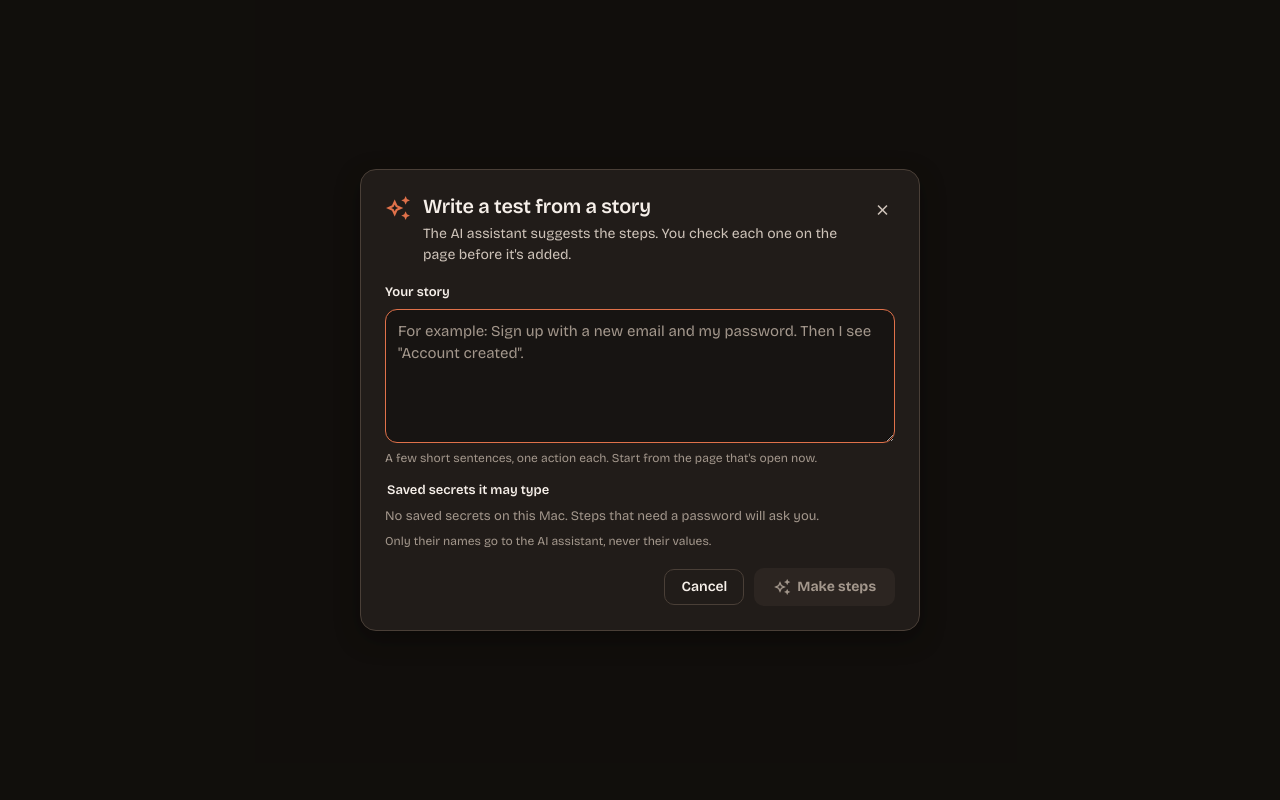
Scenario: the story dialog › says why when there is no plan
Check: the text "No saved secrets on this Mac" is shown, box [385,508,819,524]
Replace the text in the text box labelled "Your story" with "Do the thing.": (640, 376) [385,308,895,443]
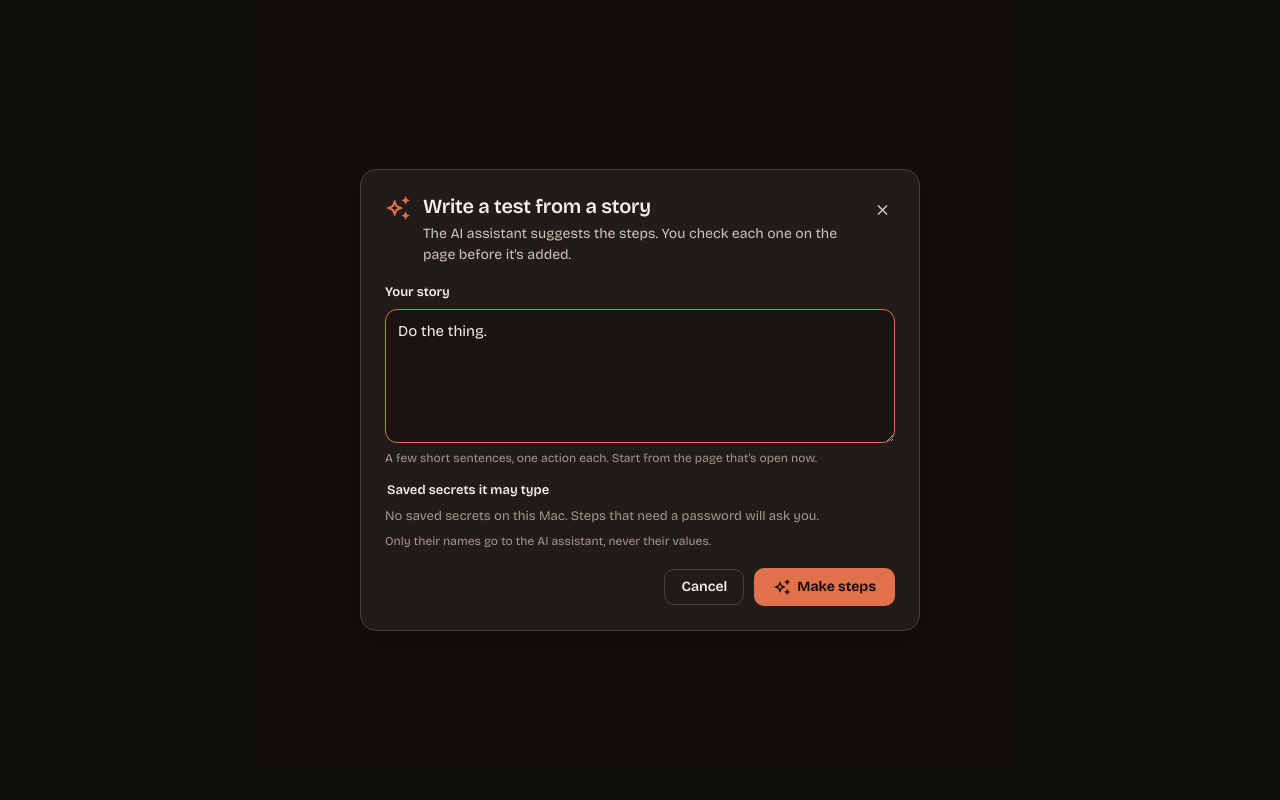
Click the button "Make steps": (825, 587) [754,568,895,606]
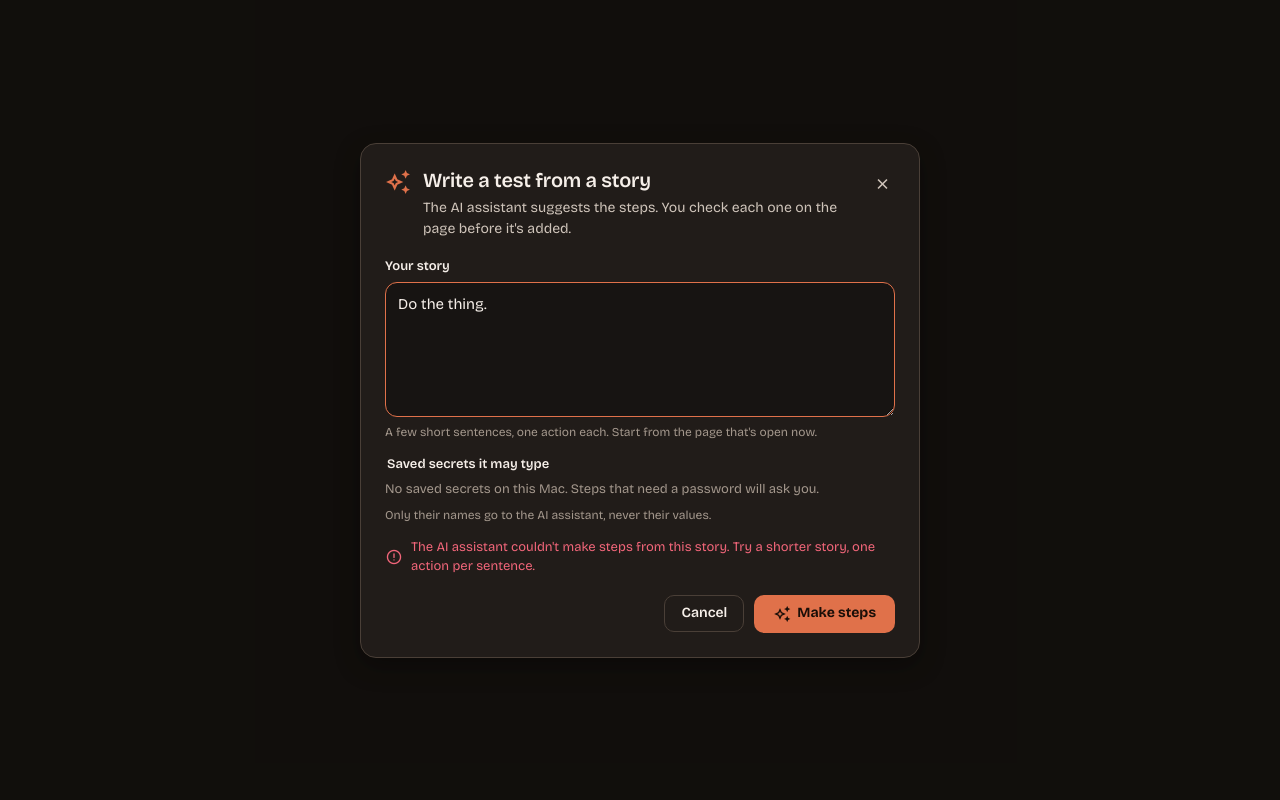
Check: the message shows "one action per sentence", box [411,538,875,574]
